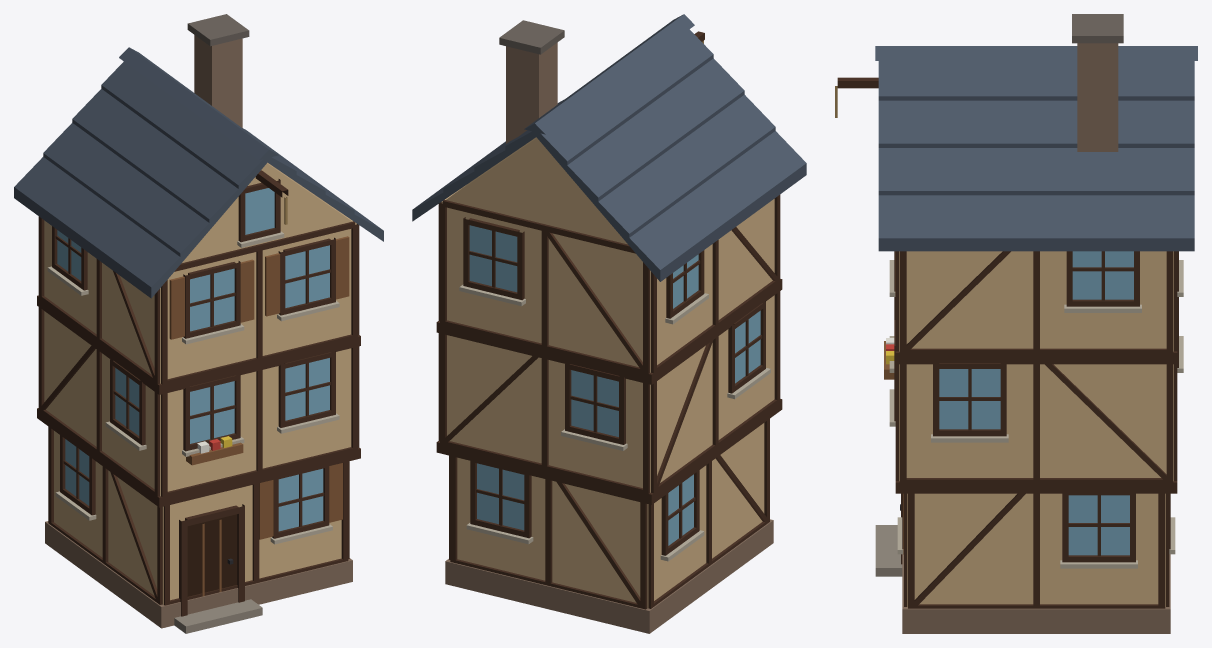
The model's file is house_06_tall_townhouse.fbx.
3 views of the same model, side by side, from view 1: azimuth 30°, elevation 25°; view 2: azimuth 150°, elevation 25°; view 3: azimuth 270°, elevation 25° (orthographic). The views are drawn at different scales.
Visible parts, largest first — view 1: house_06_tall_townhouse; view 2: house_06_tall_townhouse; view 3: house_06_tall_townhouse.
Part boxes in pixels (x1,y1,x2,y2): house_06_tall_townhouse: (14,14,383,633); house_06_tall_townhouse: (412,14,806,633); house_06_tall_townhouse: (835,14,1197,633).
Bounding box in the file's own units: 4.54 × 9.42 × 5.33.
